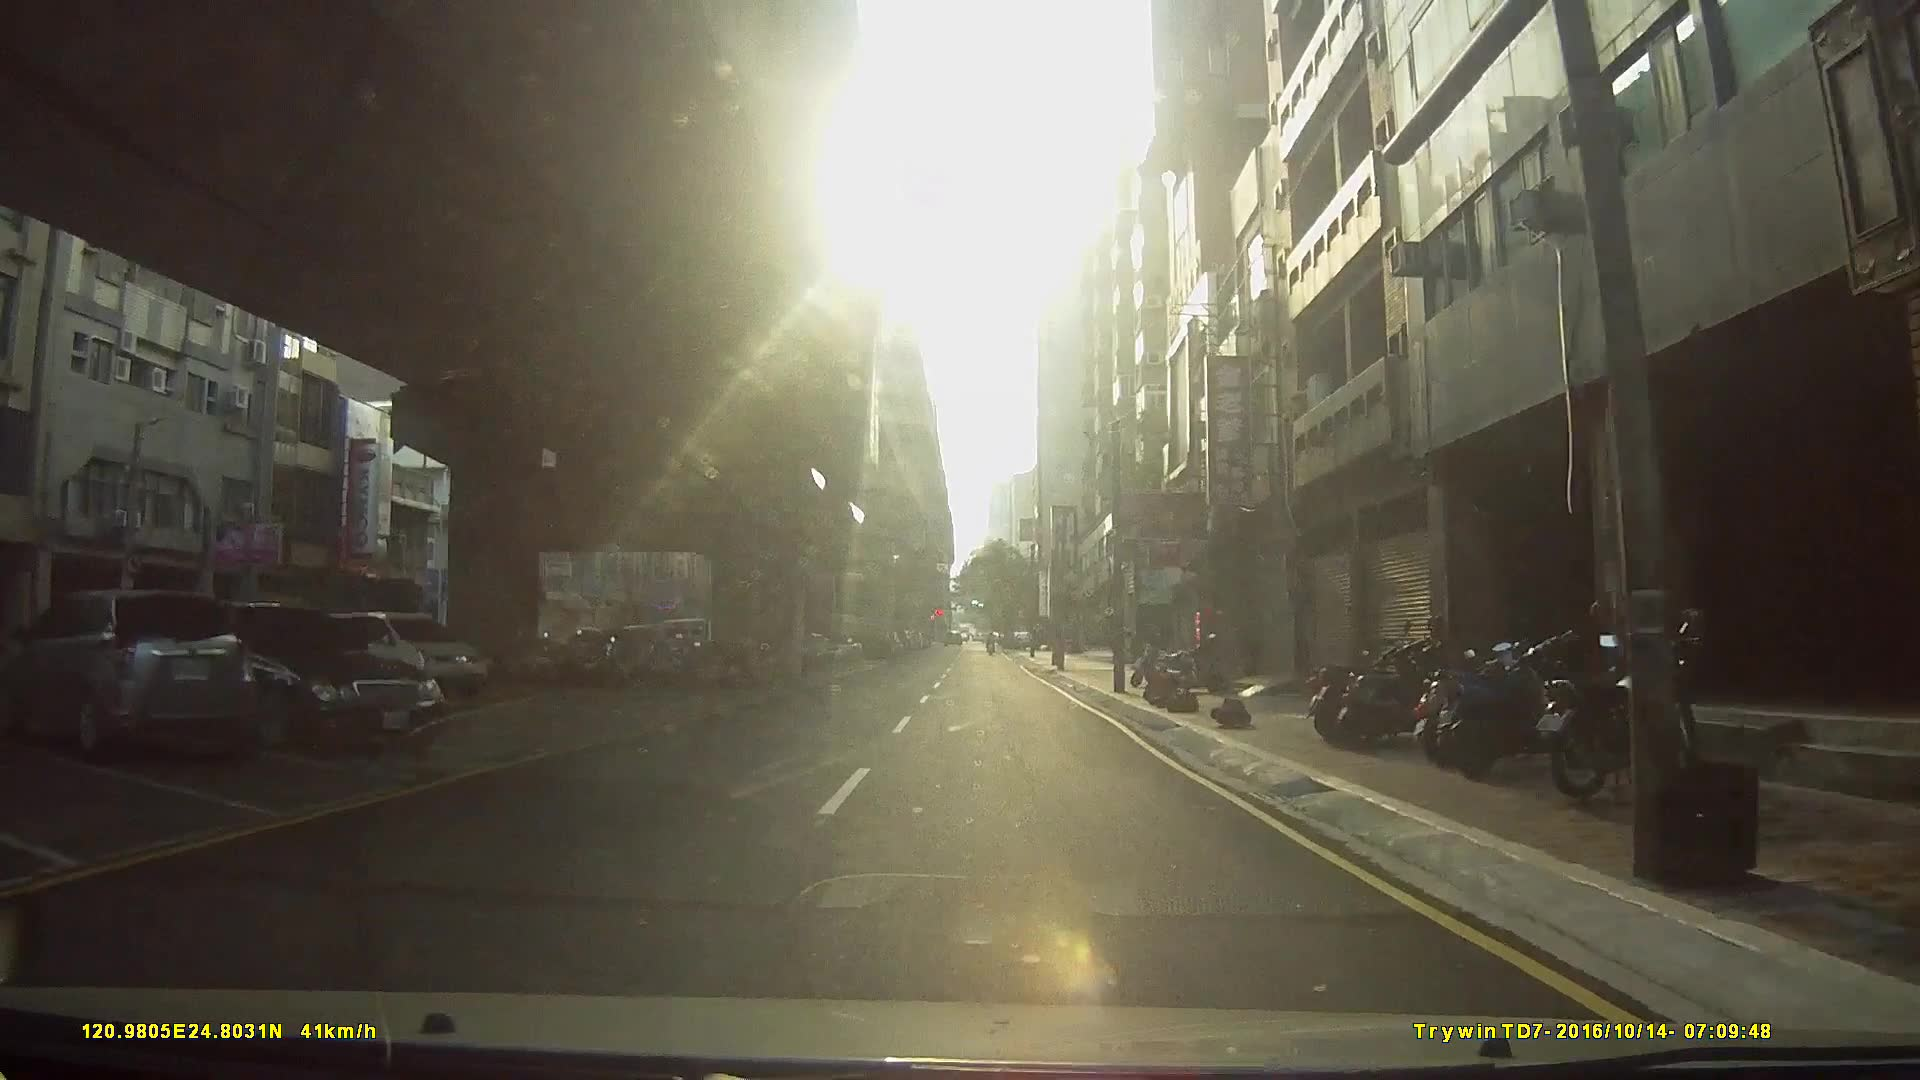vehicle: (145, 597, 438, 750), (9, 587, 256, 761), (319, 607, 483, 694)
